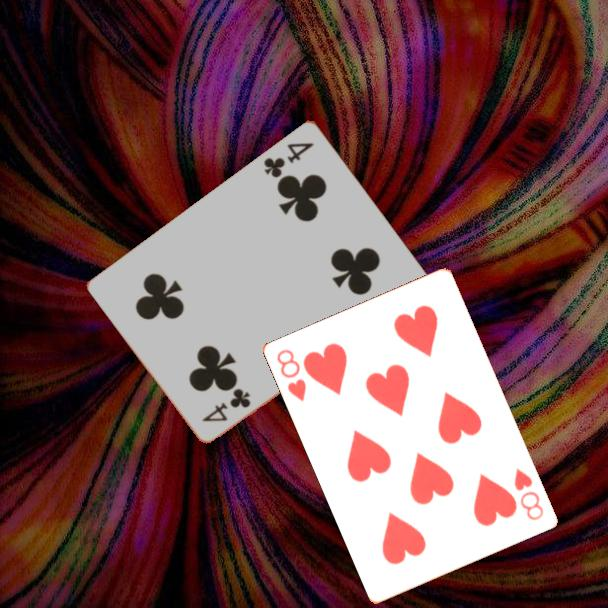c04: (260, 138, 317, 181), (198, 385, 254, 424)
h08: (273, 346, 310, 404), (511, 465, 547, 523)
